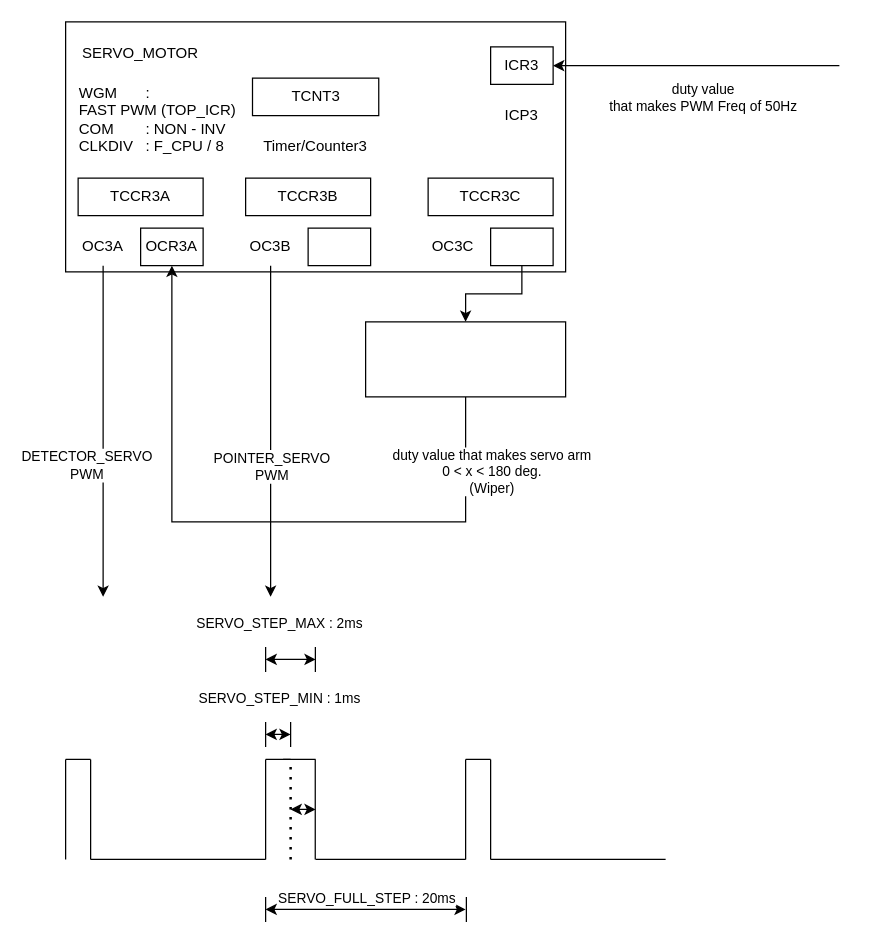
Image size: 873x945. Some labels were removed from this diagram. The centre of each missing label's shape, as x and y in pixels:
"OCR3B" belongs at (339,246).
"OCR3C" belongs at (521,246).
"TIMER3_COMPC_vect" belongs at (465,359).
